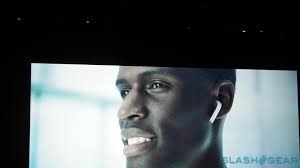earphone: (209, 79, 234, 124)
